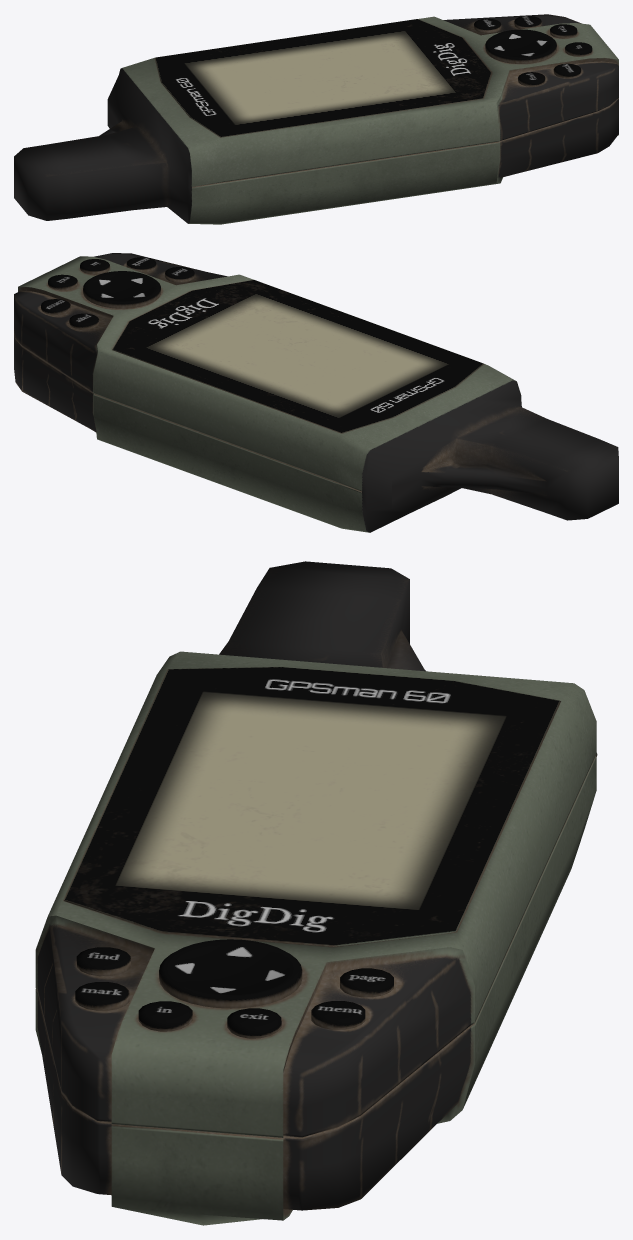
3 renders of one model, top to bottom at view 1: azimuth 30°, elevation 25°; view 2: azimuth 150°, elevation 25°; view 3: azimuth 270°, elevation 25°, orthographic. The views are drawn at different scales.
Visible parts, largest first — view 1: gps; view 2: gps; view 3: gps.
Part boxes in pixels (x1,y1,x2,y2): gps: (14,14,618,224); gps: (14,253,618,532); gps: (35,561,597,1225).
Bounding box in the file's own units: 0.1513 × 0.0261 × 0.0662.
Materials: 1 (1 with a texture image).
